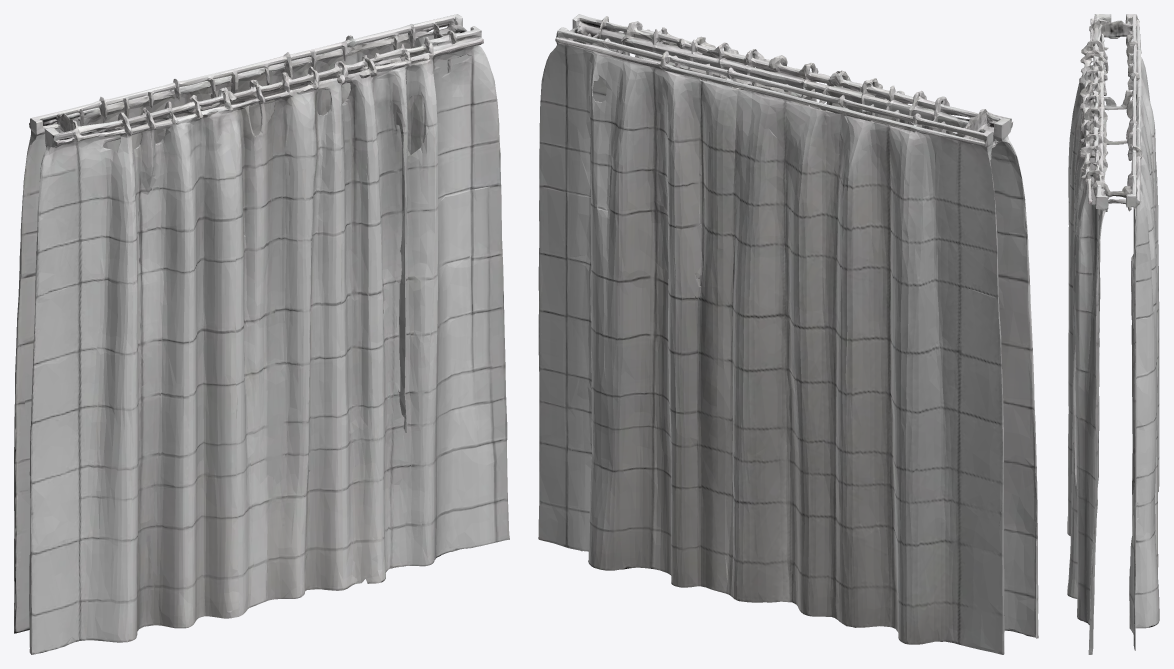
The model's file is ca4a0157-237c-4090-aef0-6c618d94a58a.glb.
3 views of the same model, side by side, from view 1: azimuth 30°, elevation 25°; view 2: azimuth 150°, elevation 25°; view 3: azimuth 270°, elevation 25° (orthographic). The views are drawn at different scales.
Visible parts, largest first — view 1: world; view 2: world; view 3: world.
Boxes of the visible parts, x1,y1,x2,y2 form: world: (14, 14, 509, 654); world: (538, 14, 1038, 654); world: (1067, 14, 1159, 654).
Size of the model in its own units: 0.9654 by 1 by 0.1849.
Materials: 1 (1 with a texture image).
